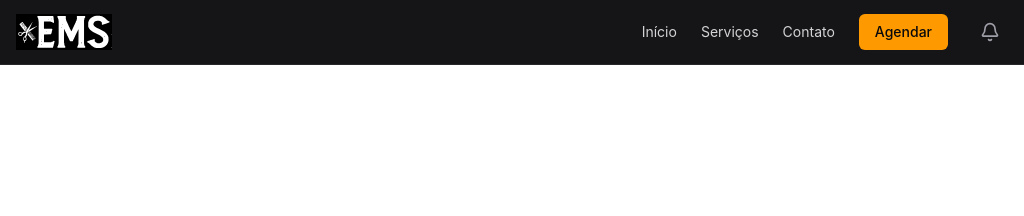
PublicHeader › when logged in with agendamentos shows Confirmado in dropdown (cancel is on Agendar page)
Click the button named "Notificações" at (990, 32), box x1=972 y1=14 x2=1008 y2=50
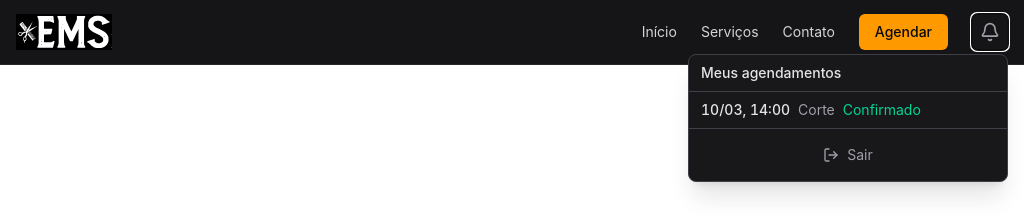
Now the text "Confirmado" is shown, box x1=843 y1=100 x2=921 y2=120
